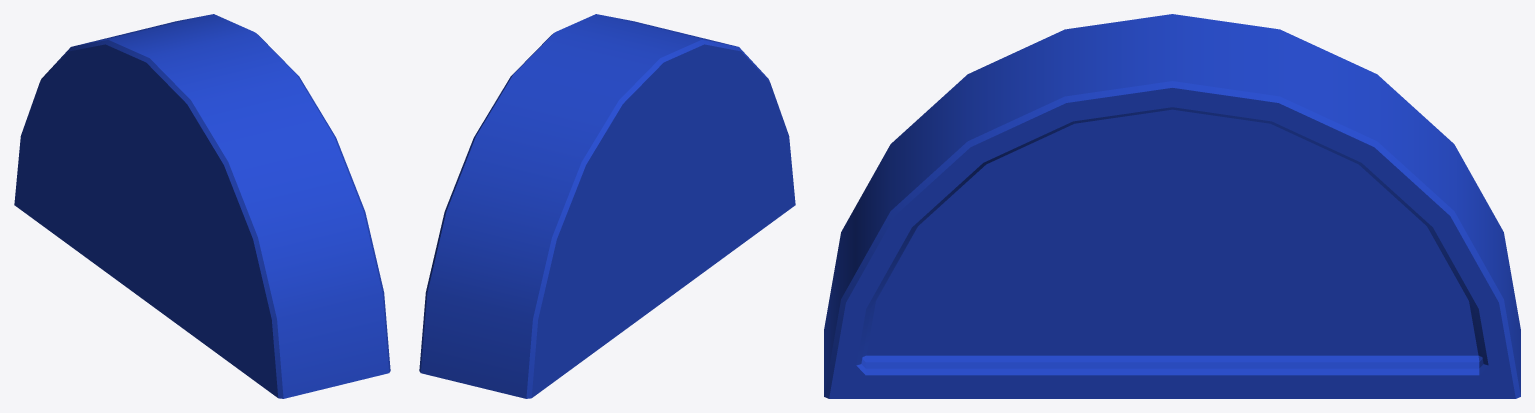
Rendered from Machine_Light_Right.fbx.
3 renders of one model, left to right at view 1: azimuth 30°, elevation 25°; view 2: azimuth 150°, elevation 25°; view 3: azimuth 270°, elevation 25°, orthographic. The views are drawn at different scales.
Visible parts, largest first — view 1: Cylinder.006; view 2: Cylinder.006; view 3: Cylinder.006.
Boxes of the visible parts, x1,y1,x2,y2 form: Cylinder.006: [14, 14, 390, 398]; Cylinder.006: [419, 14, 795, 398]; Cylinder.006: [824, 14, 1520, 398].
Bounding box in the file's own units: 16.73 × 34.54 × 69.08.
